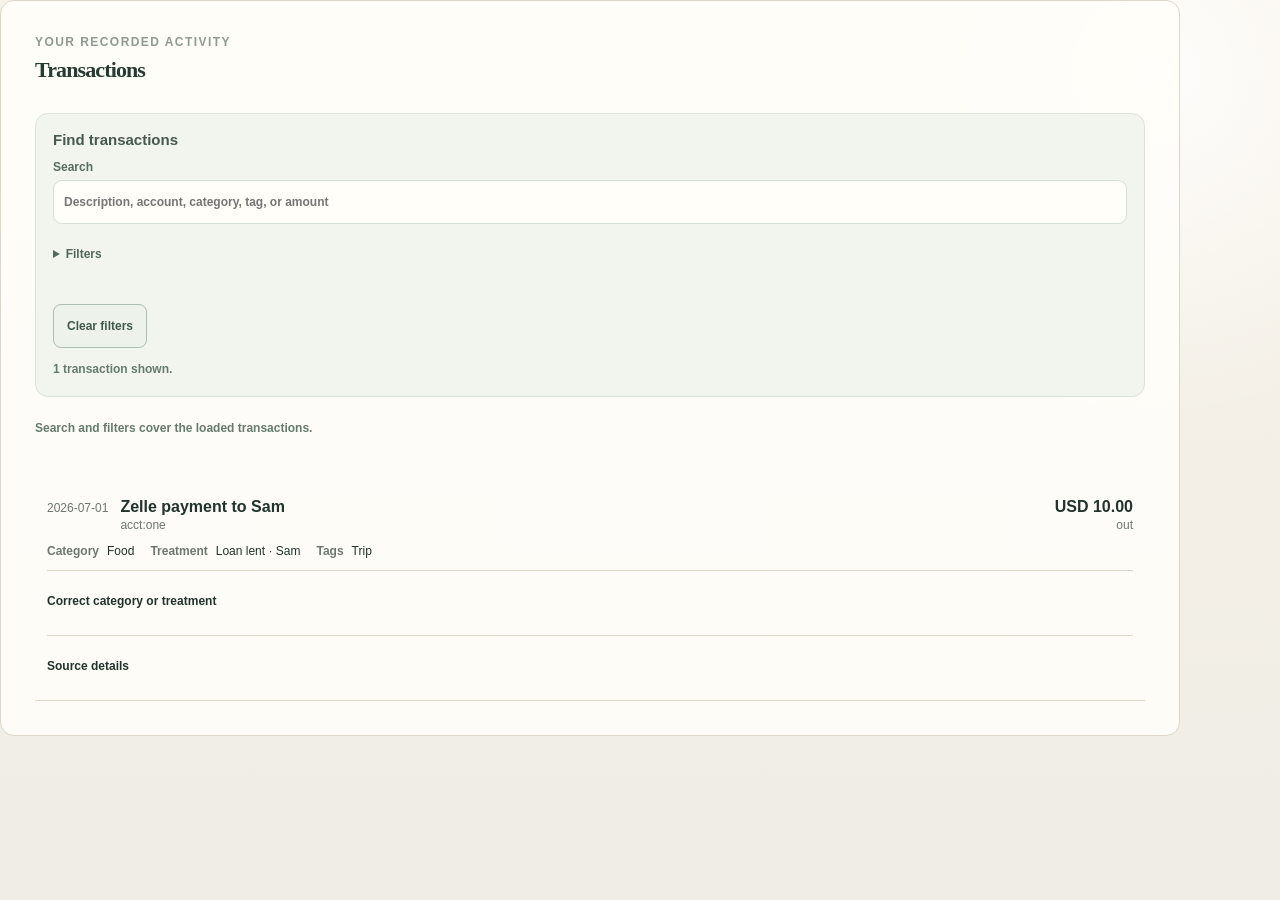
it: Transactions surface › keeps a recorded loan name visible and selected on the refreshed row
Expected: the text "Loan lent · Sam" is shown, [216,544,300,558]
Click the heading "Correct category or treatment" at (132, 601), box [47,594,216,608]
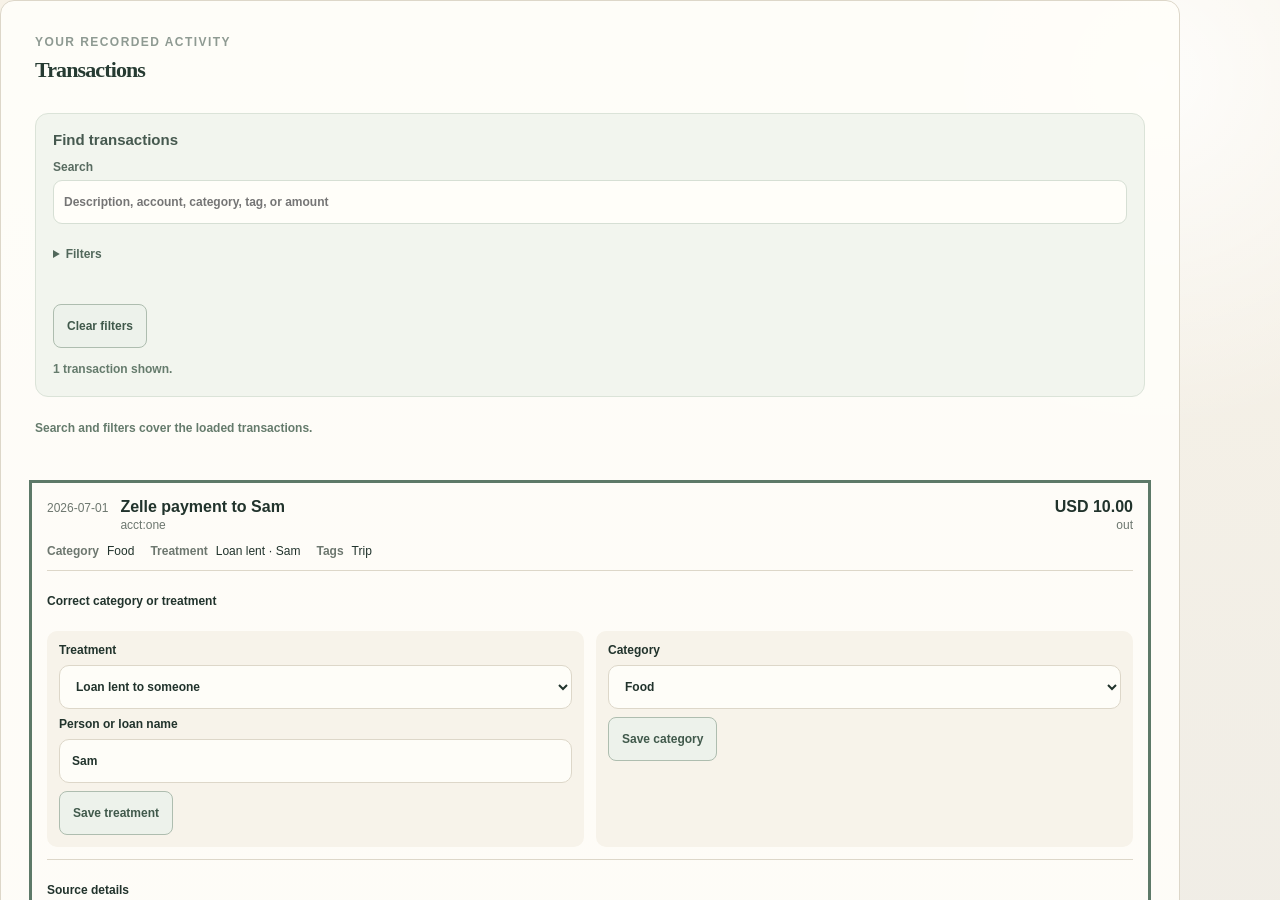
Expected: the dropdown named "Treatment for" shows "Loan lent to someone", [59,665,572,709]
Expected: the field named "Person or loan name for" holds "Sam", [59,739,572,783]
